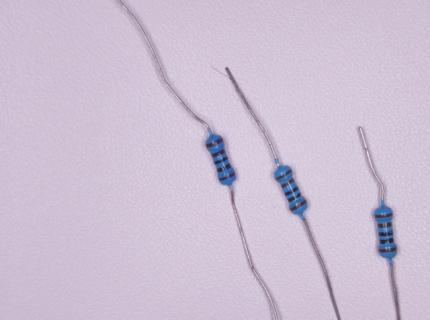Black band: (288, 192, 301, 202), (217, 163, 231, 172), (214, 156, 228, 165), (285, 187, 299, 196), (379, 230, 393, 236), (380, 238, 393, 244)
Brown band: (275, 169, 292, 181), (290, 199, 307, 211), (206, 138, 223, 148), (280, 178, 295, 189), (219, 172, 235, 181), (211, 149, 226, 158), (379, 246, 396, 252), (375, 213, 392, 218), (378, 222, 392, 228)
